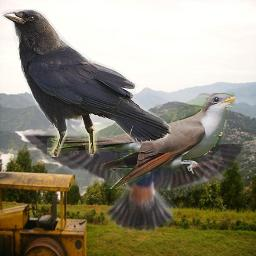Crow: (1, 9, 171, 157)
Cuckoo: (47, 93, 235, 189)
Swallow: (16, 121, 247, 233)
